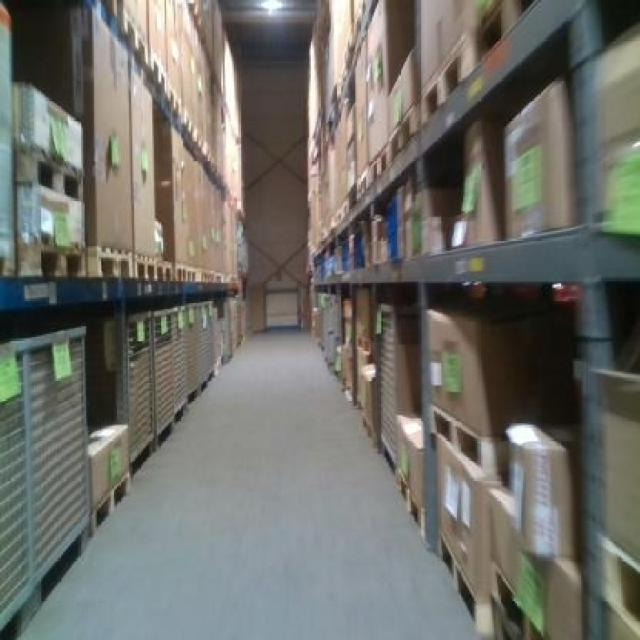pallets: (306, 0, 637, 637), (0, 0, 240, 632)
